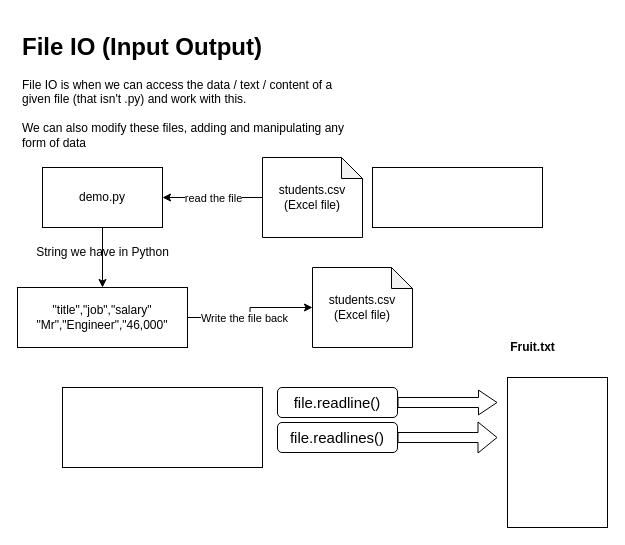
Some shapes in this 625 by 545 pixel diagram are drawn without their labels. The shapes that lost their labels are listed below. From the top down, each one's centre as x and y in pixels, then its label:
point (457, 197): "title","job","salary" "mr","engineer",46000
point (162, 427): Creates a 'cursor' which points to a a part of the file and returns it
point (557, 452): apple pear orange mango kiwi
